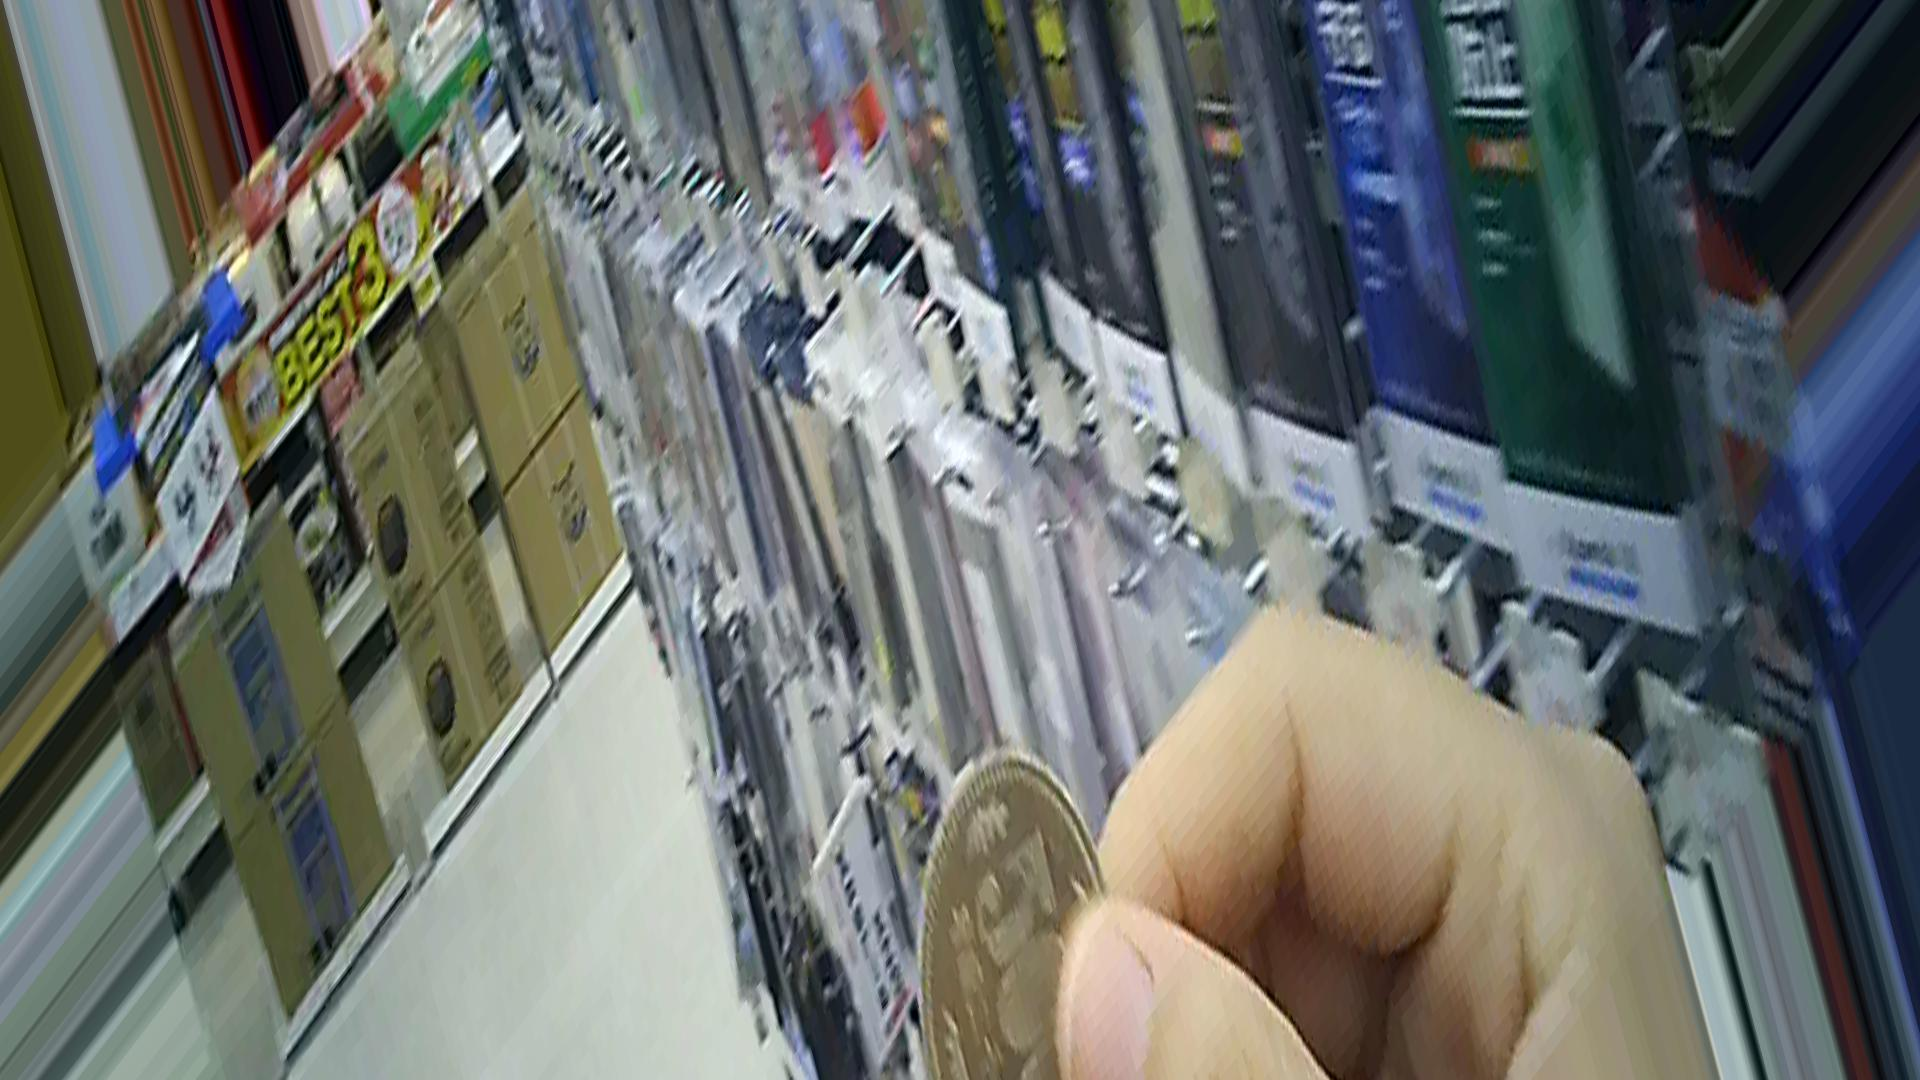500 Yen: (911, 760, 1150, 1079)
